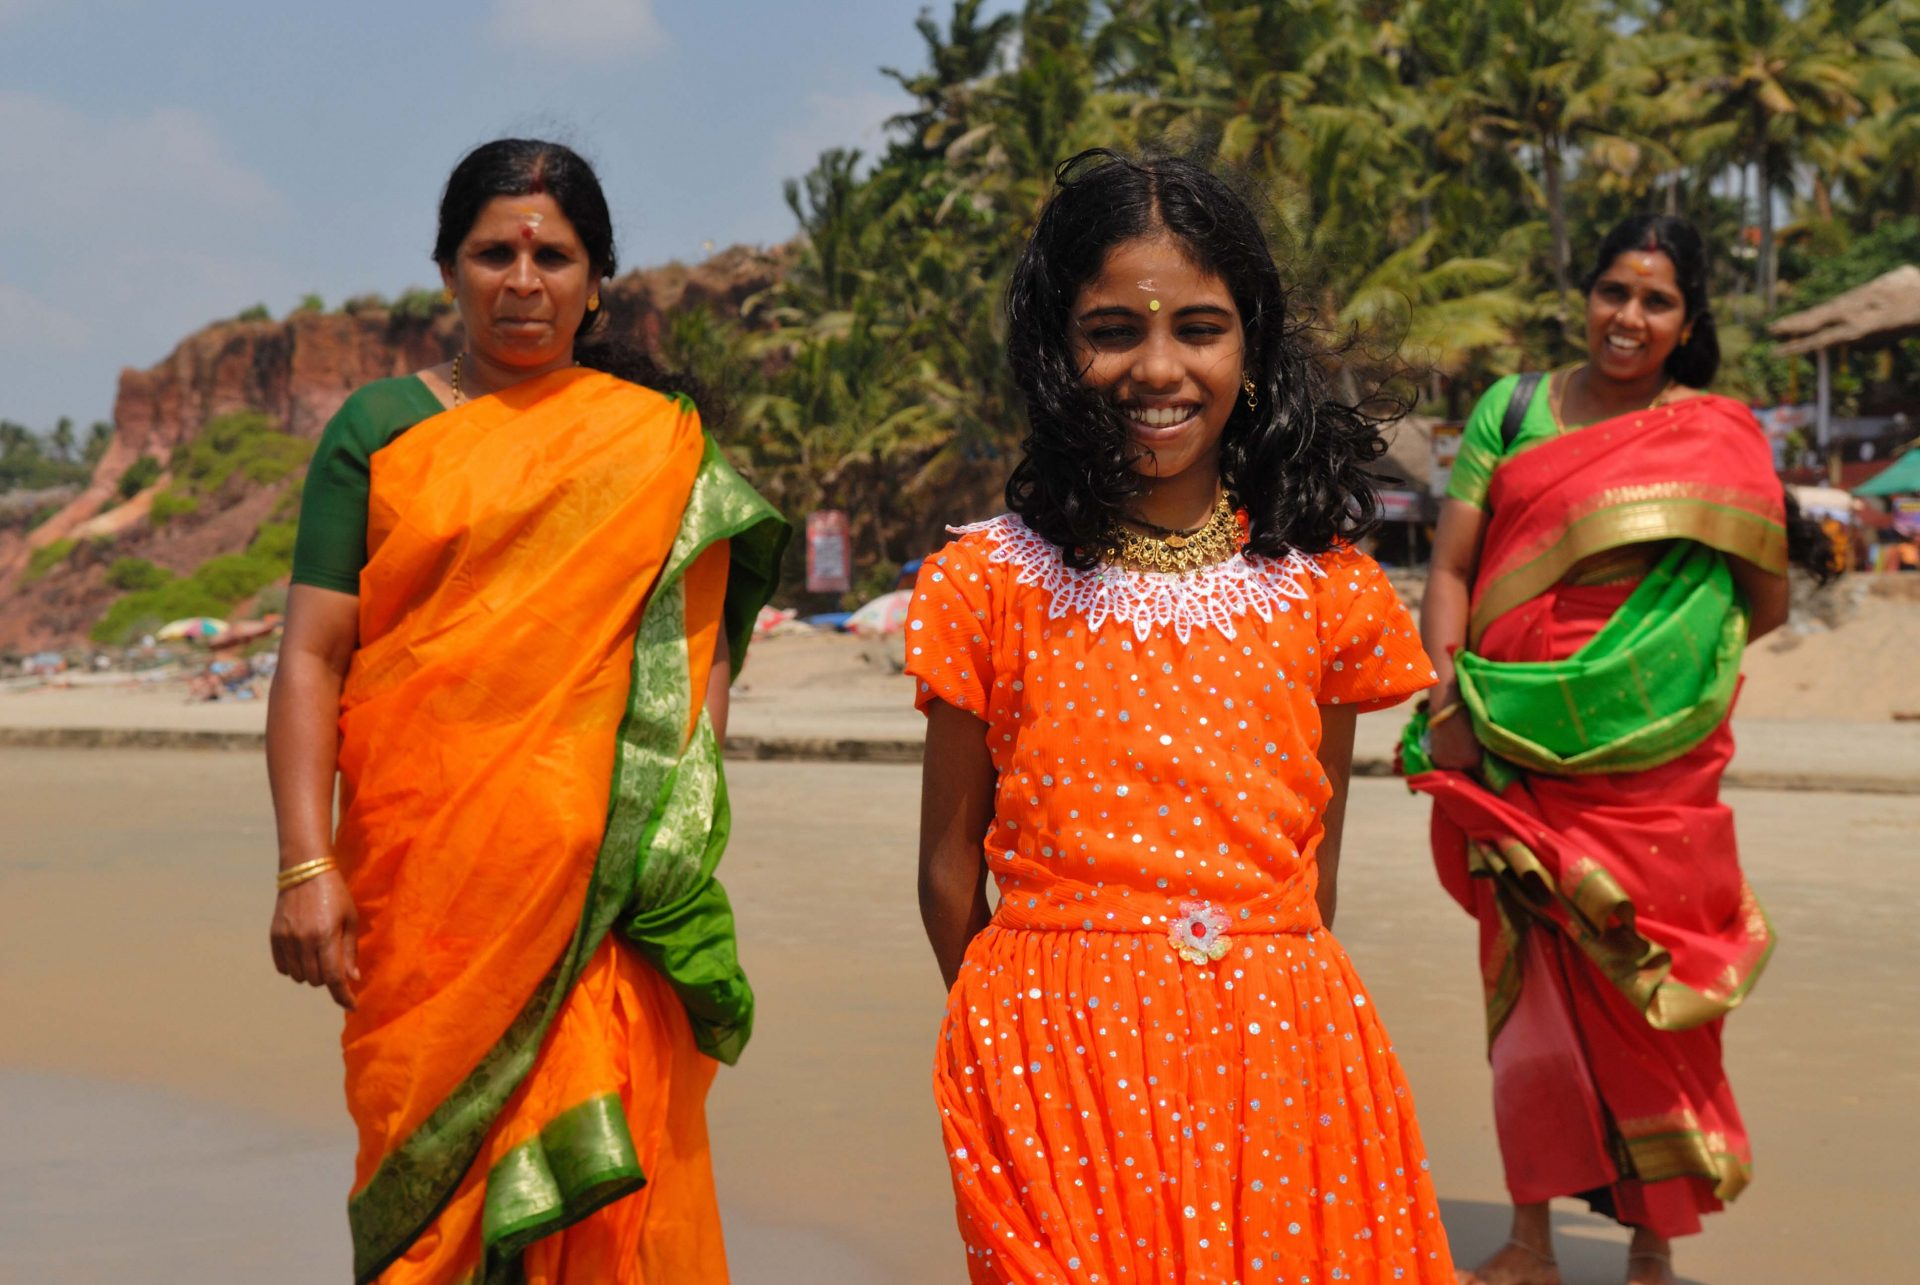without_mask: (1073, 283, 1226, 470), (473, 220, 571, 366), (1601, 270, 1681, 389)
